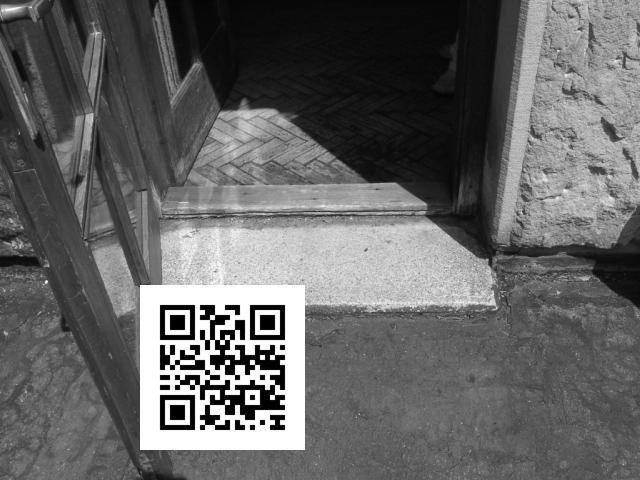qr_code: (141, 285, 306, 449)
